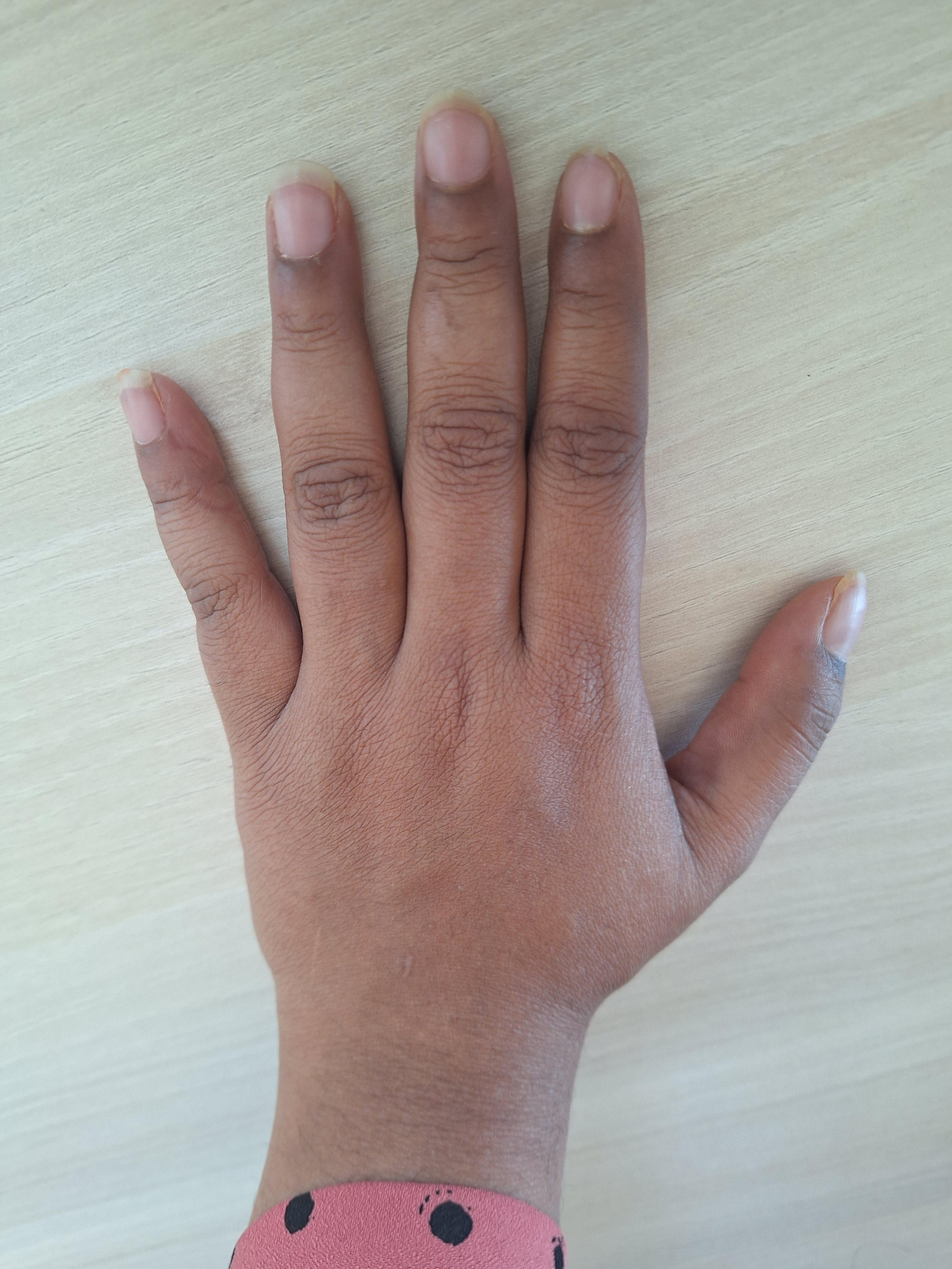Fingernail: (420, 86, 494, 185), (269, 160, 337, 257), (560, 140, 623, 233), (823, 569, 868, 662), (116, 369, 164, 445)
